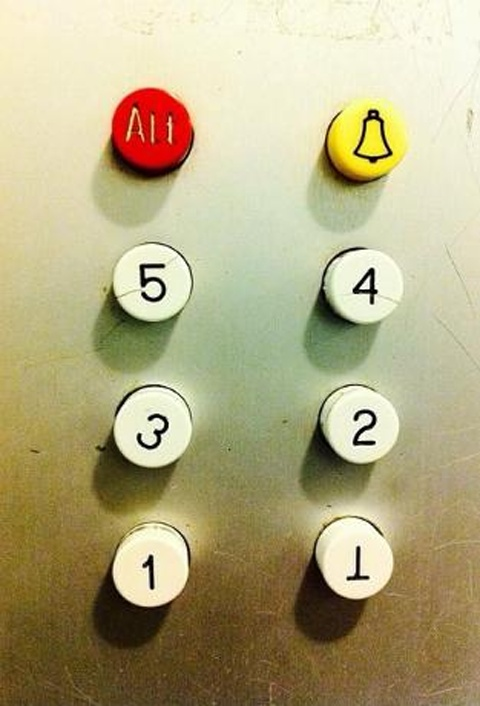1: (108, 519, 192, 610)
2: (315, 383, 403, 467)
3: (110, 383, 194, 474)
4: (318, 244, 406, 328)
5: (107, 240, 195, 324)
alarm: (321, 94, 410, 185)
unknown: (105, 83, 197, 183), (311, 512, 395, 603)
